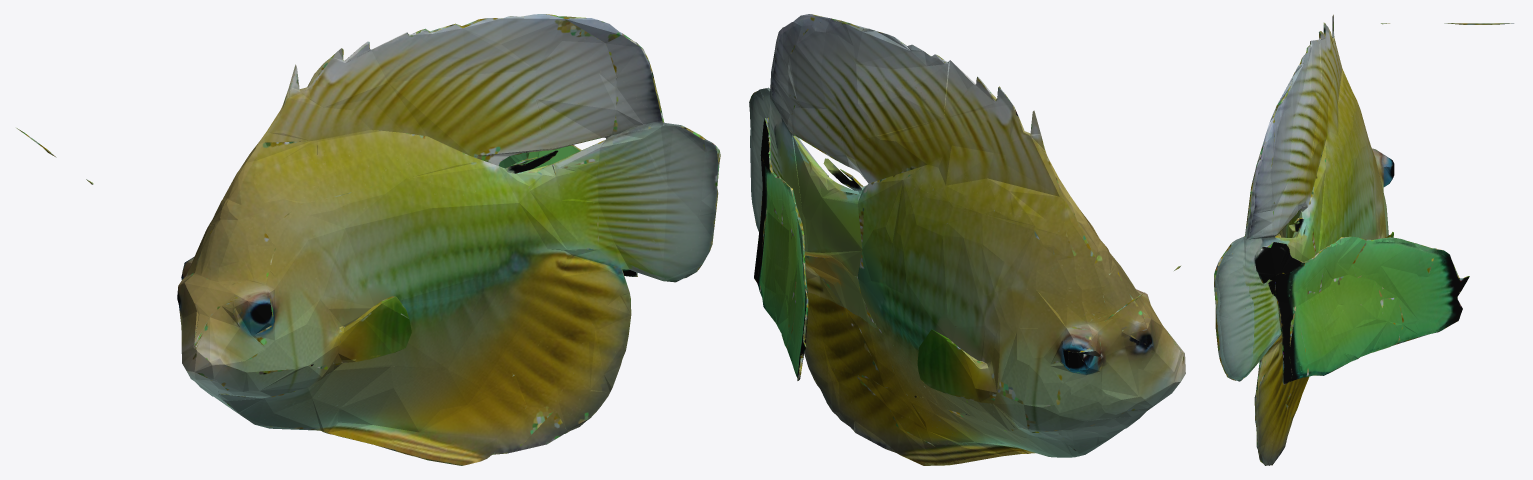
Rendered from fish_0035_smpl23_resized.glb.
The picture shows the model from 3 angles, left to right: view 1: azimuth 30°, elevation 25°; view 2: azimuth 150°, elevation 25°; view 3: azimuth 270°, elevation 25°; orthographic projection. The views are drawn at different scales.
Parts seen in each view (by area): view 1: world; view 2: world; view 3: world.
Part boxes in pixels (x1=…): world: x1=16, y1=14, x2=720, y2=465; world: x1=749, y1=14, x2=1185, y2=465; world: x1=1214, y1=14, x2=1513, y2=465.
Size of the model in its own units: 1.99 by 1.55 by 1.12.
1 material, 1 textured.
